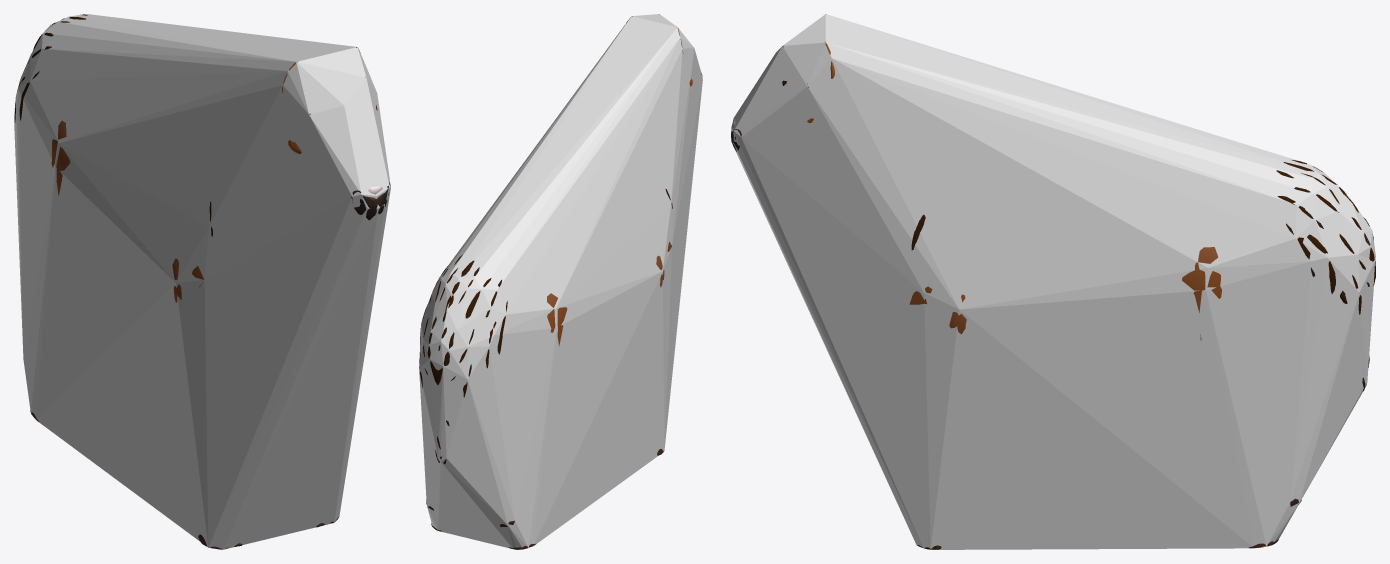
File: cavalo_leve.glb
The picture shows the model from 3 angles, left to right: view 1: azimuth 30°, elevation 25°; view 2: azimuth 150°, elevation 25°; view 3: azimuth 270°, elevation 25°; orthographic projection. The views are drawn at different scales.
Parts seen in each view (by area): view 1: Colisao, Sphere_001.002_8, Sphere.078_1, Object_33; view 2: Colisao, Object_33, Sphere.078_1; view 3: Colisao, Object_33, Sphere.078_1.
Boxes of the visible parts, x1,y1,x2,y2 form: Colisao: (14, 14, 390, 549); Sphere_001.002_8: (288, 140, 390, 220); Sphere.078_1: (51, 120, 70, 195); Object_33: (14, 14, 377, 236); Colisao: (419, 14, 702, 549); Object_33: (419, 14, 672, 463); Sphere.078_1: (426, 293, 567, 526); Colisao: (731, 14, 1375, 549); Object_33: (782, 45, 1375, 391); Sphere.078_1: (1182, 247, 1301, 506).
Size of the model in its own units: 0.7374 by 2.26 by 2.68.
